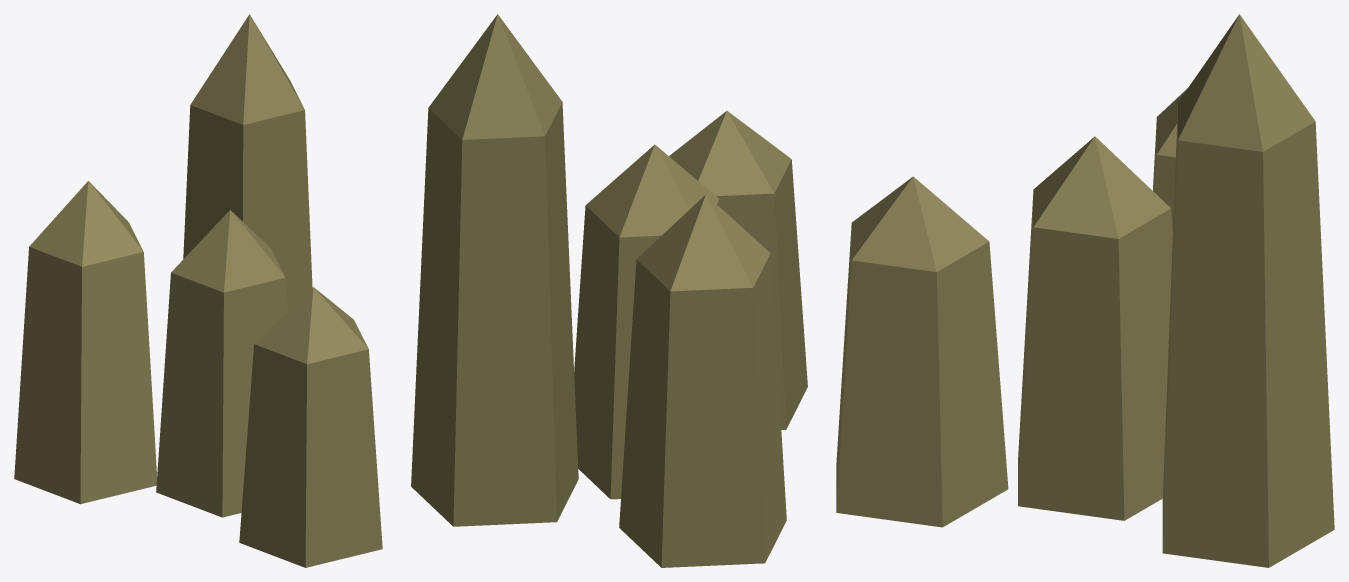
The model's file is volcano-sulphur.glb.
3 renders of one model, left to right at view 1: azimuth 30°, elevation 25°; view 2: azimuth 150°, elevation 25°; view 3: azimuth 270°, elevation 25°, orthographic. The views are drawn at different scales.
Visible parts, largest first — view 1: volcano-sulphur; view 2: volcano-sulphur; view 3: volcano-sulphur.
Boxes of the visible parts, x1=… form: volcano-sulphur: x1=14, y1=14, x2=382, y2=567; volcano-sulphur: x1=411, y1=14, x2=807, y2=567; volcano-sulphur: x1=836, y1=14, x2=1334, y2=567.
Bounding box in the file's own units: 0.5382 × 0.7174 × 0.6284.
